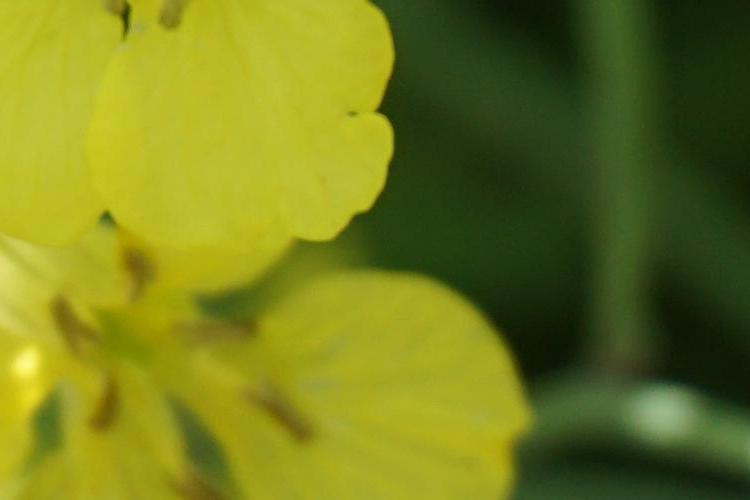yellow: (2, 251, 553, 497), (25, 22, 374, 270)
